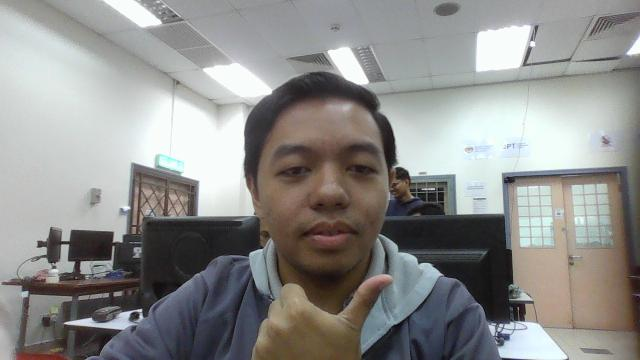senang: (259, 94, 386, 271)
